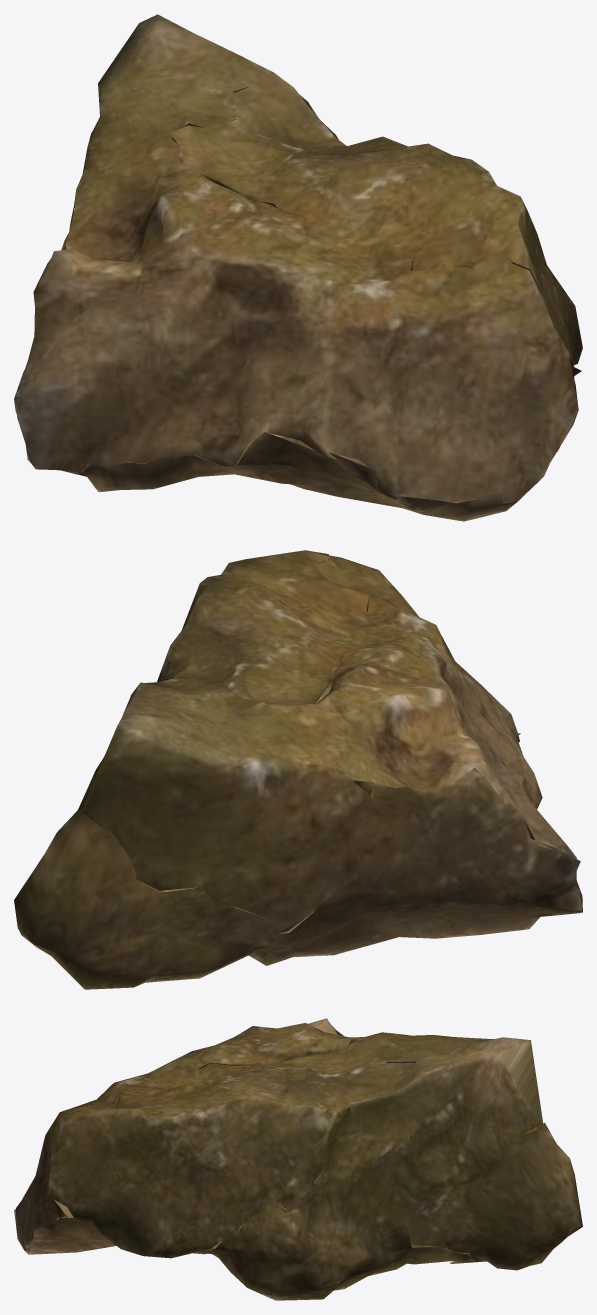
The model's file is rock_moss_set_01_5.glb.
3 renders of one model, top to bottom at view 1: azimuth 30°, elevation 25°; view 2: azimuth 150°, elevation 25°; view 3: azimuth 270°, elevation 25°, orthographic. The views are drawn at different scales.
Visible parts, largest first — view 1: rock_moss_set_01_rock06; view 2: rock_moss_set_01_rock06; view 3: rock_moss_set_01_rock06.
Part boxes in pixels (x1,y1,x2,y2): rock_moss_set_01_rock06: (14,14,582,521); rock_moss_set_01_rock06: (14,550,582,989); rock_moss_set_01_rock06: (14,1018,582,1300).
Size of the model in its own units: 2.14 by 1.25 by 2.76.
Materials: 1 (1 with a texture image).
